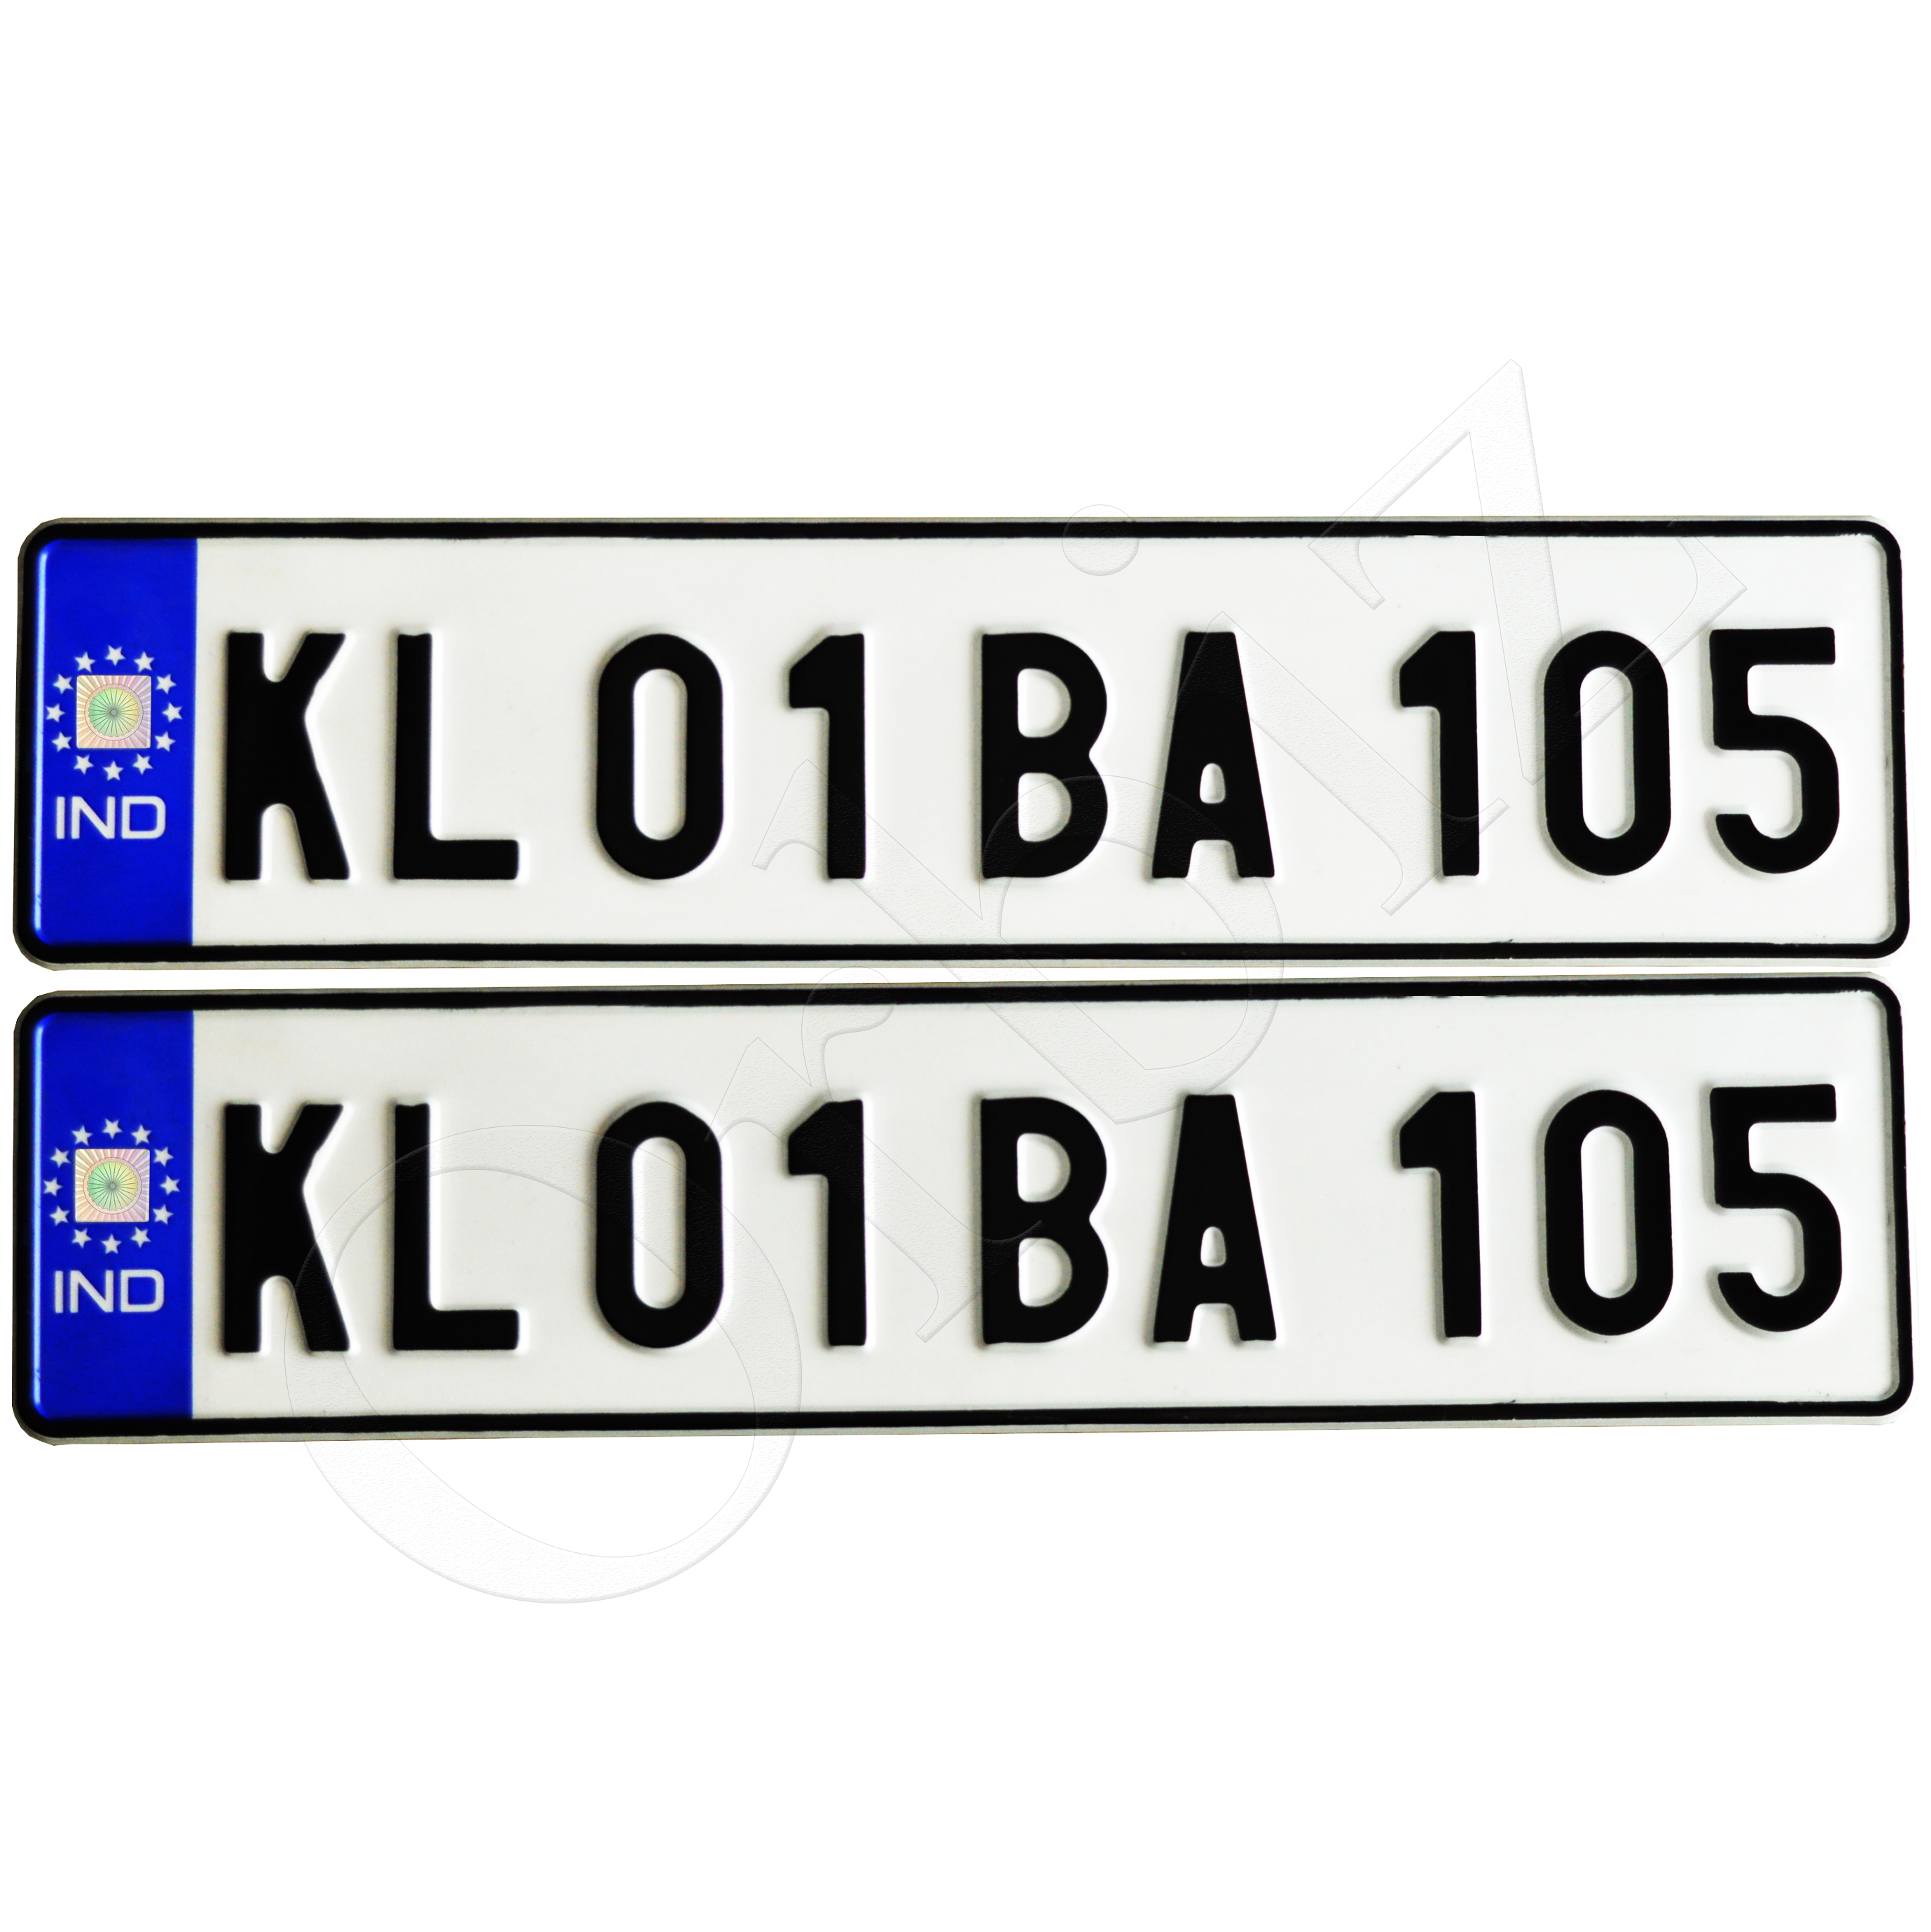inlp: (13, 953, 1921, 1463), (6, 502, 1931, 975)
